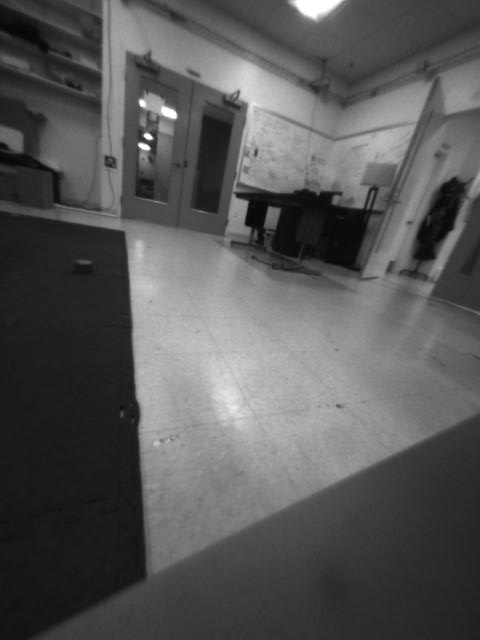dogtoy: (56, 245, 102, 284)
